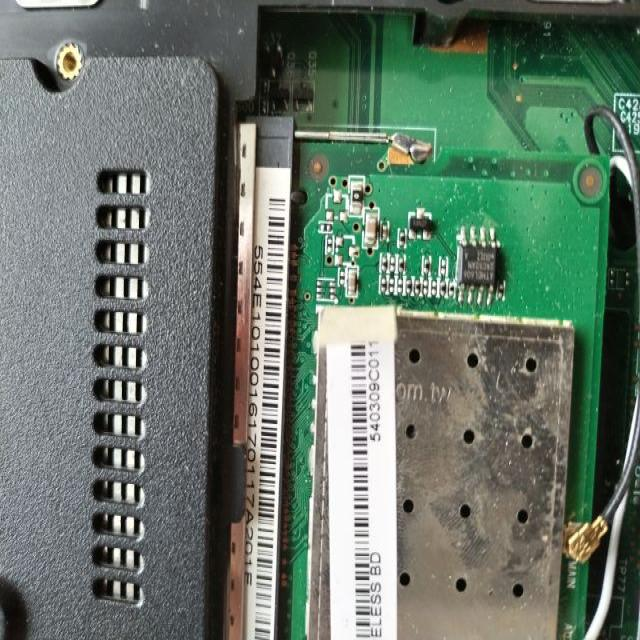capacitor: (361, 204, 383, 256), (344, 260, 360, 304)
resistor: (422, 253, 433, 280)
